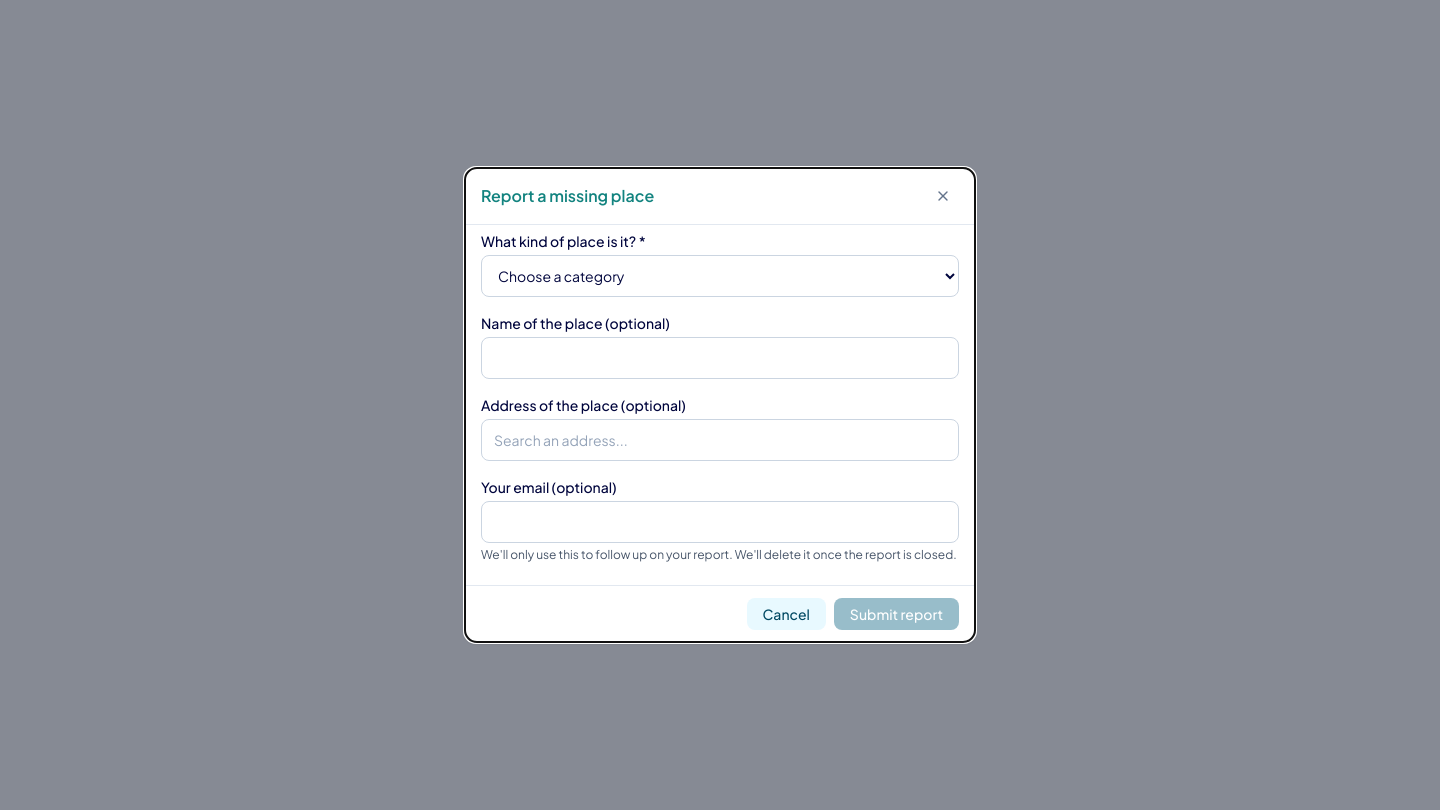
Test: MapCorrectionForm › add › blocks submit and shows an inline error for a malformed email
Select "Restaurants" in the dropdown labelled "What kind of place is it? *": (720, 276) [481,255,959,297]
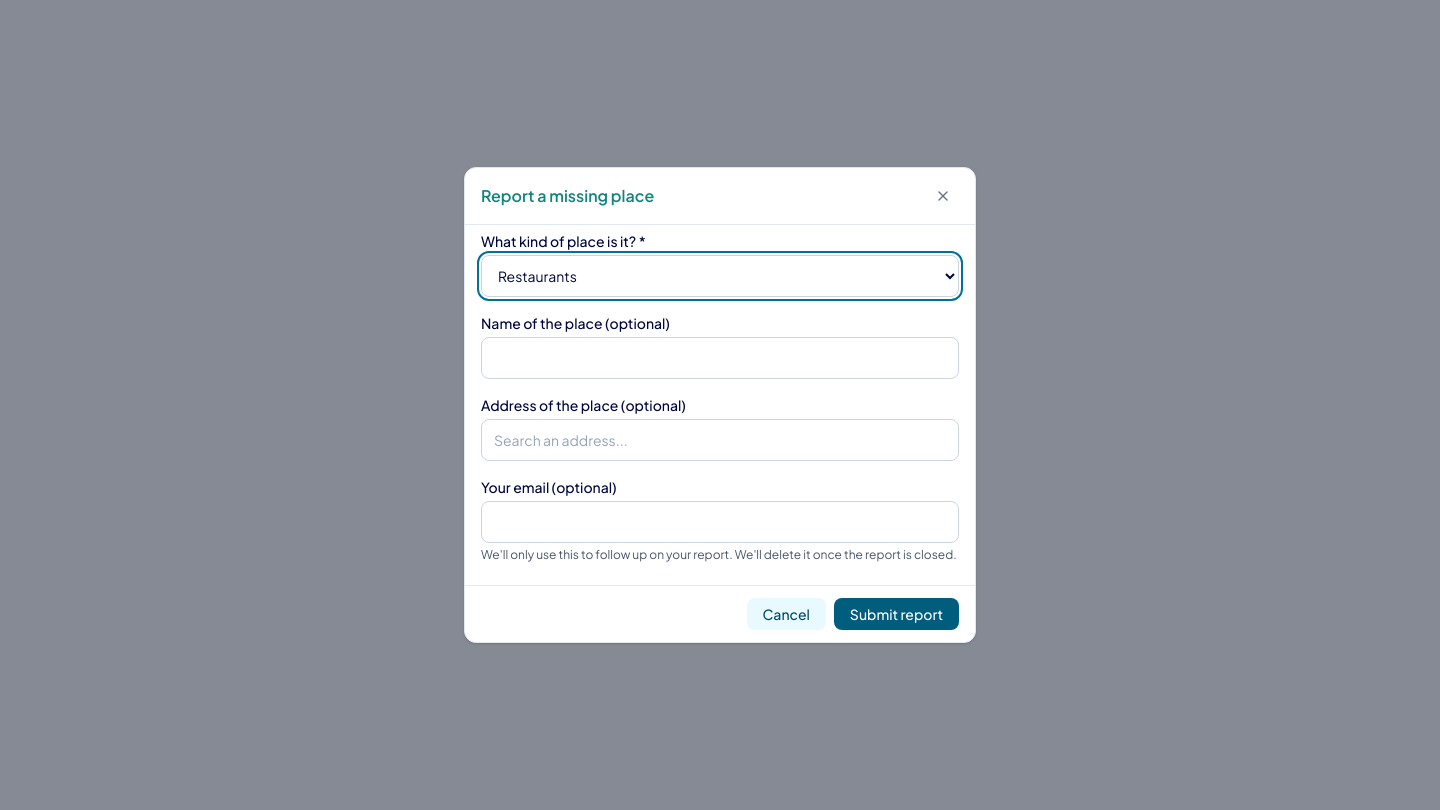
In the field labelled "Your email (optional)": (720, 522) [481,501,959,543], type "not-an-email"
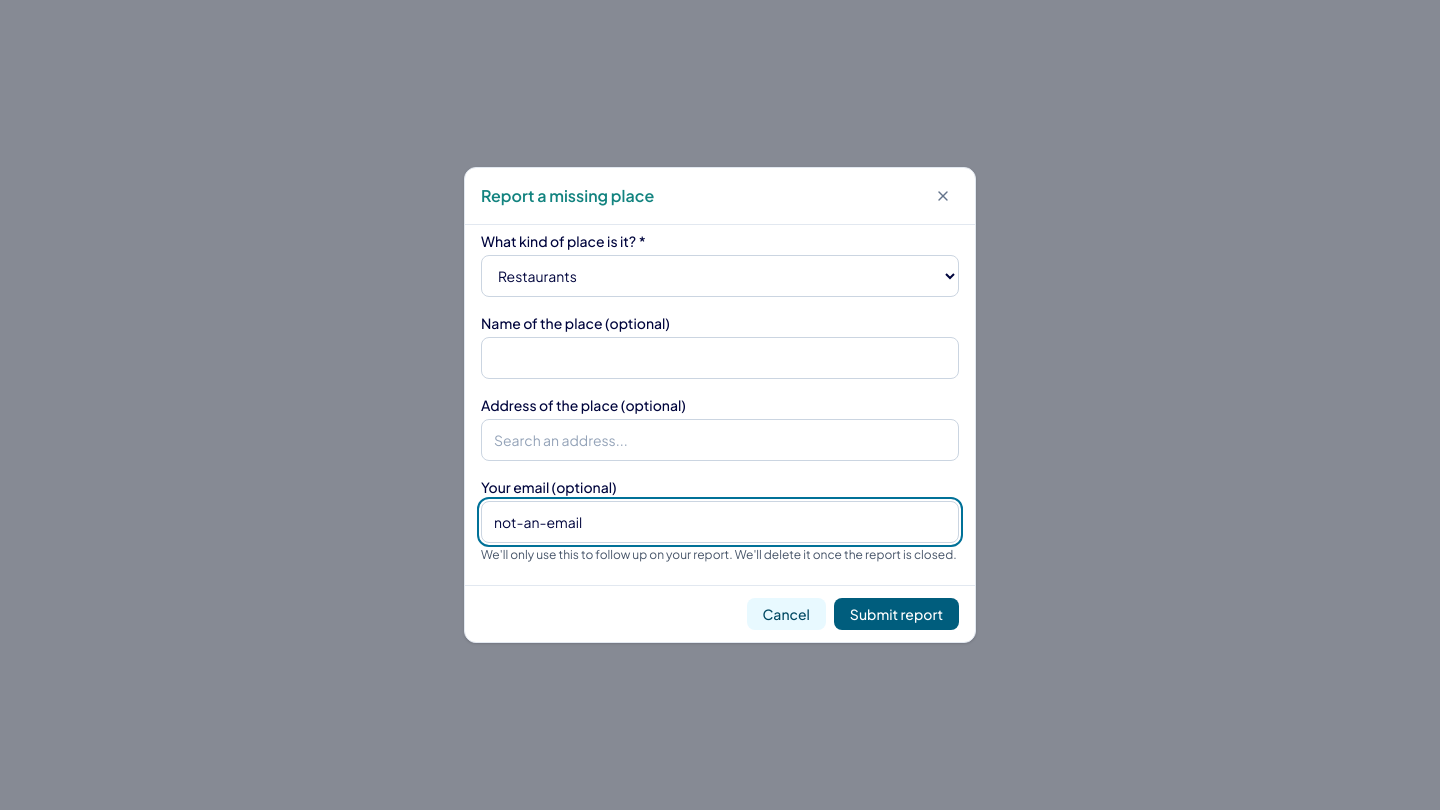
Click the button "Submit report": (896, 614) [834,598,959,630]
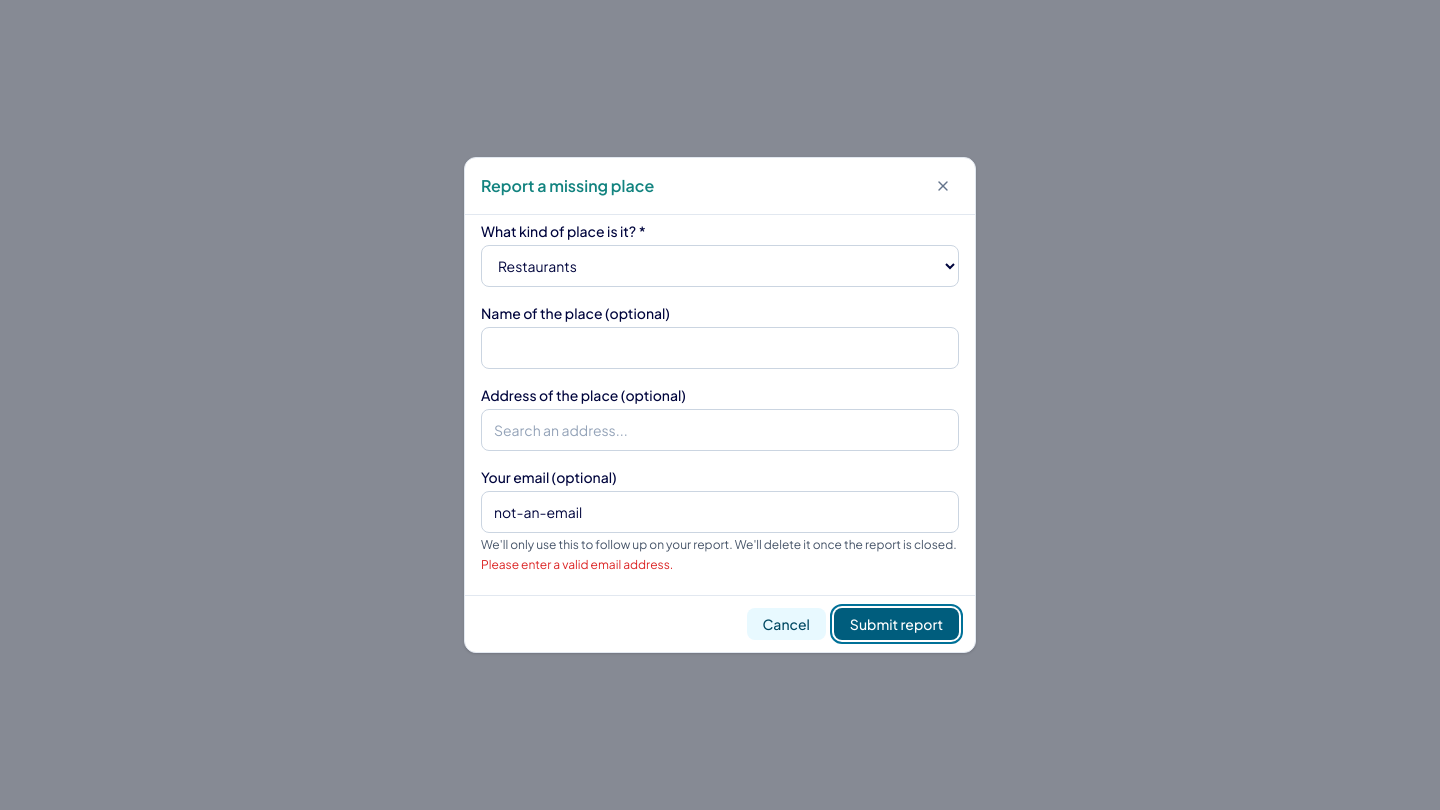
Expected: the text "Please enter a valid email address." is shown, [481,557,673,572]
